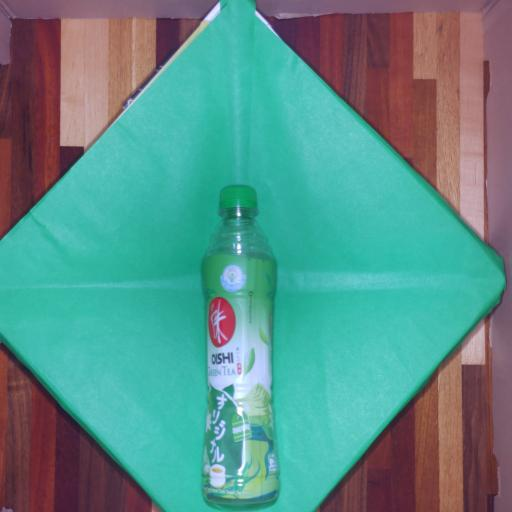bottle: (202, 186, 279, 507)
